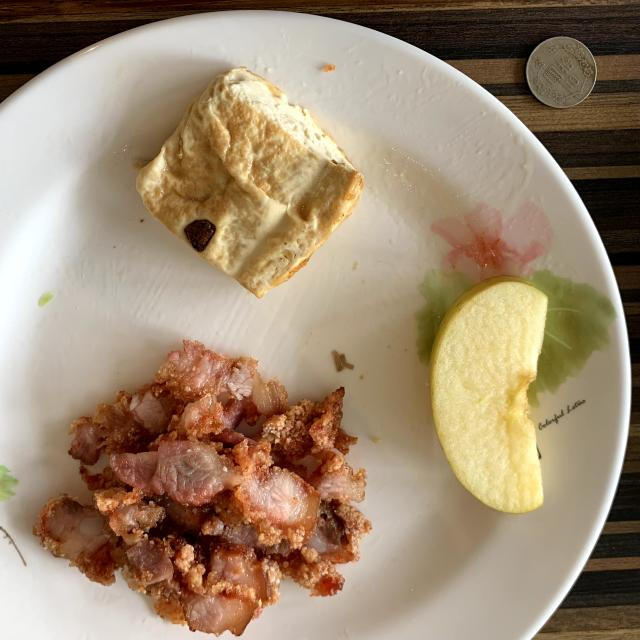apple -sliced-: (431, 276, 548, 514)
coin: (526, 36, 596, 109)
red grilled pork: (34, 340, 370, 635)
